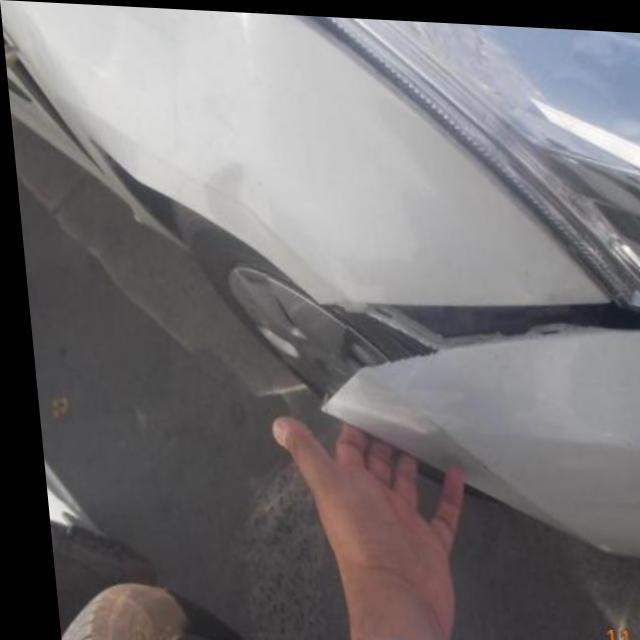dislocated part: (309, 296, 640, 410)
